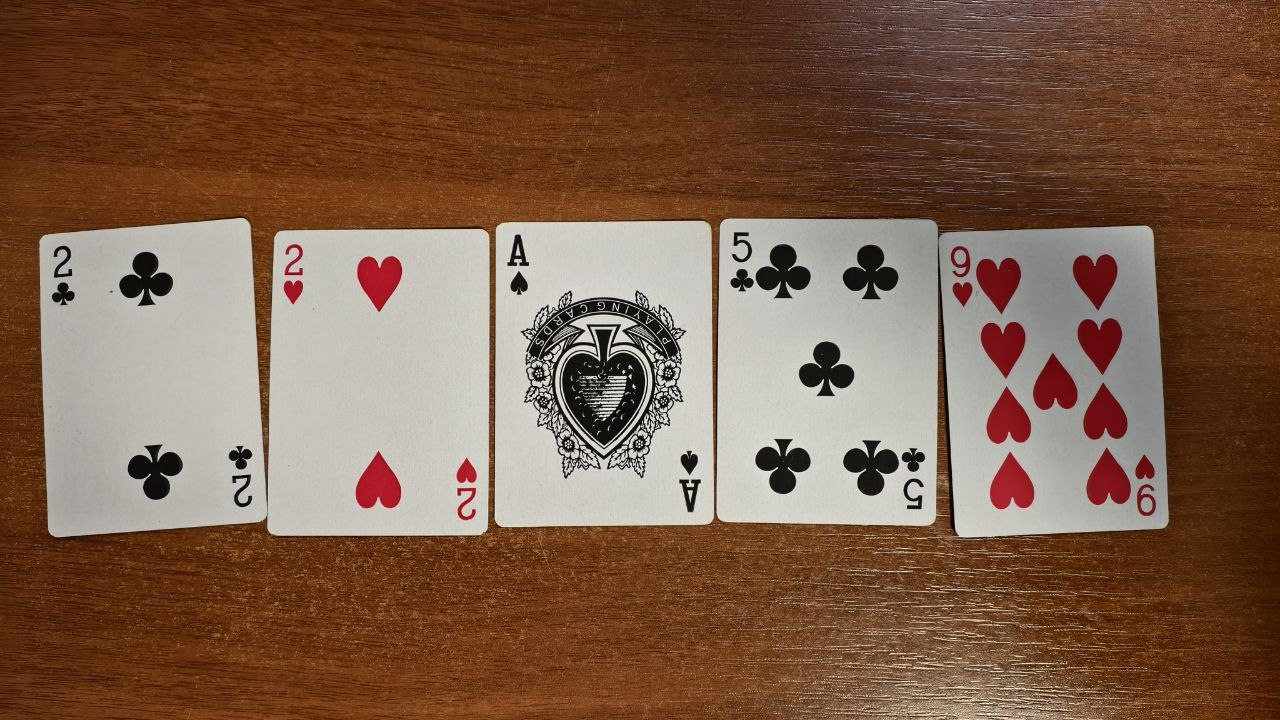2C: (38, 218, 267, 537)
2H: (268, 227, 491, 537)
5C: (716, 218, 939, 525)
9H: (941, 225, 1170, 538)
AS: (496, 219, 715, 528)
